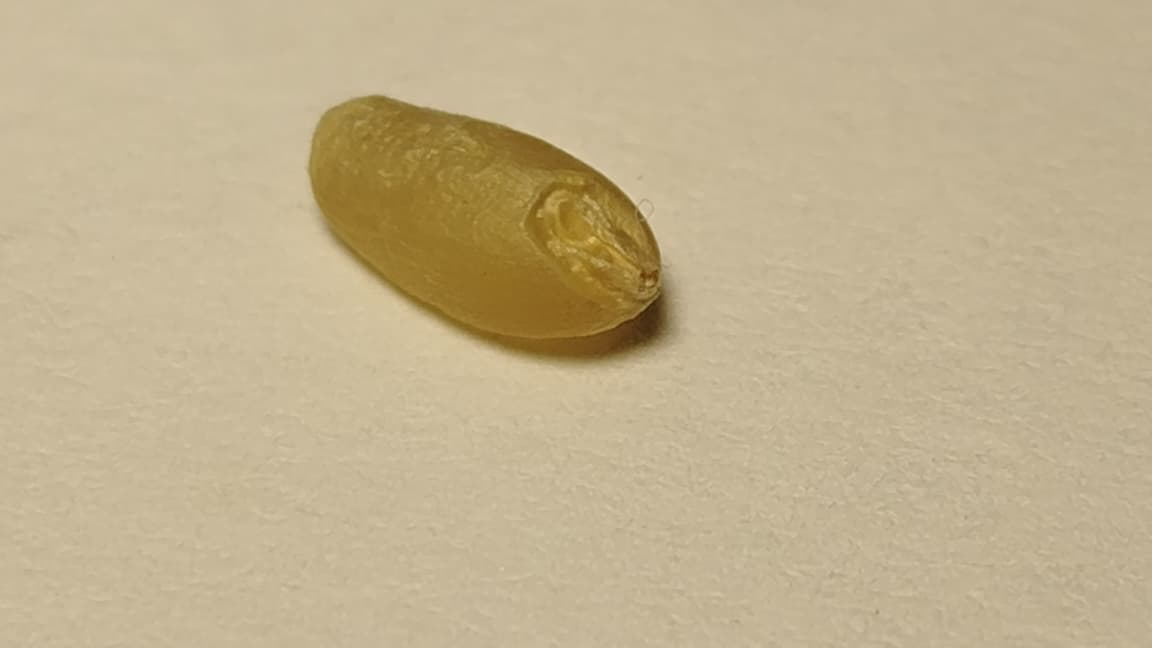healthy: (309, 96, 659, 336)
